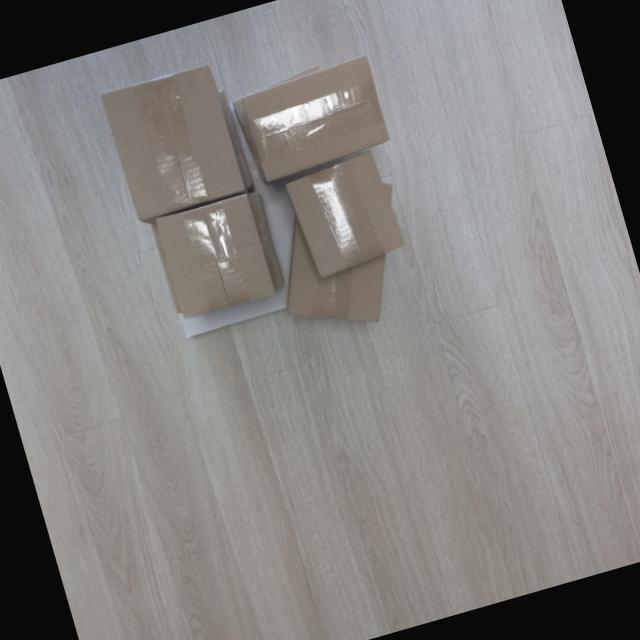box: (93, 55, 250, 225), (234, 50, 398, 186), (278, 143, 412, 284), (148, 187, 282, 326)
